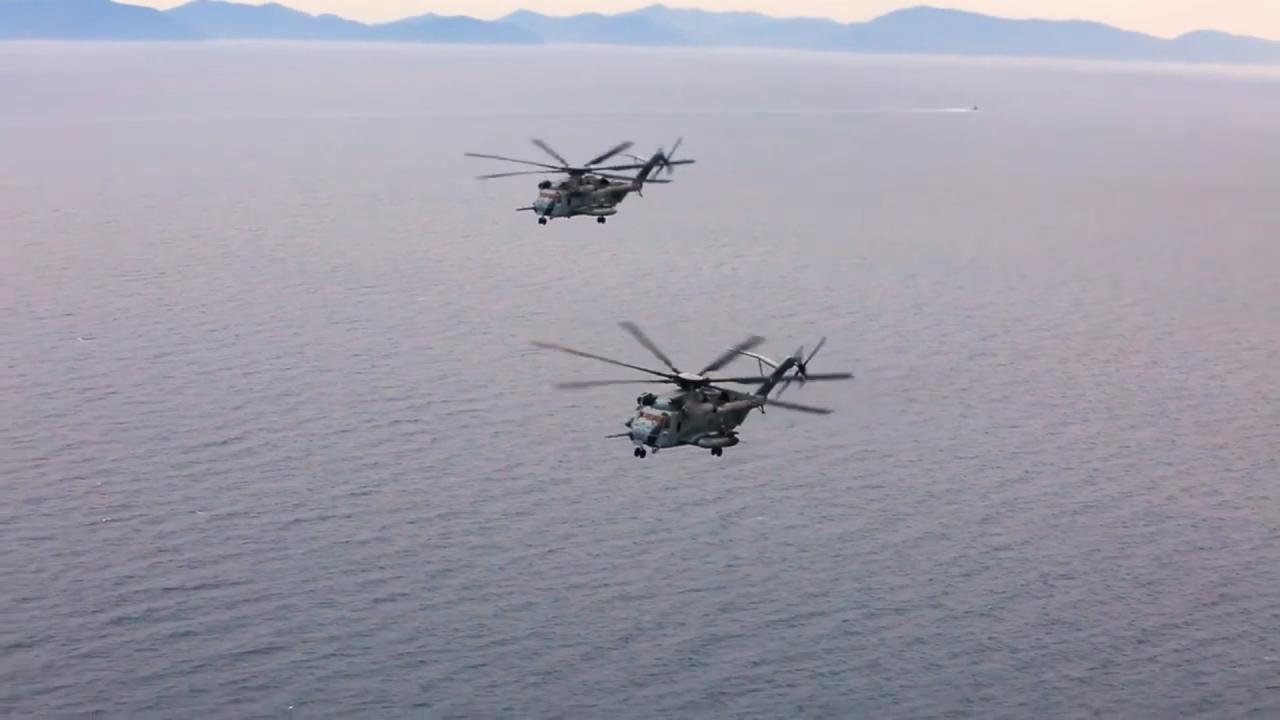Helicopter: (508, 303, 872, 483), (457, 116, 710, 248)
